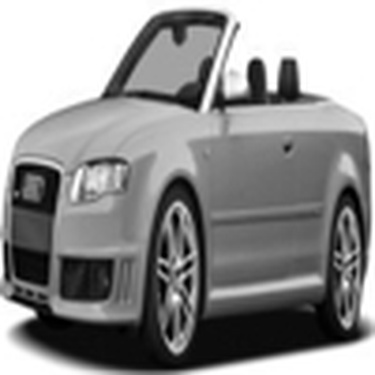car: (2, 4, 353, 346)
